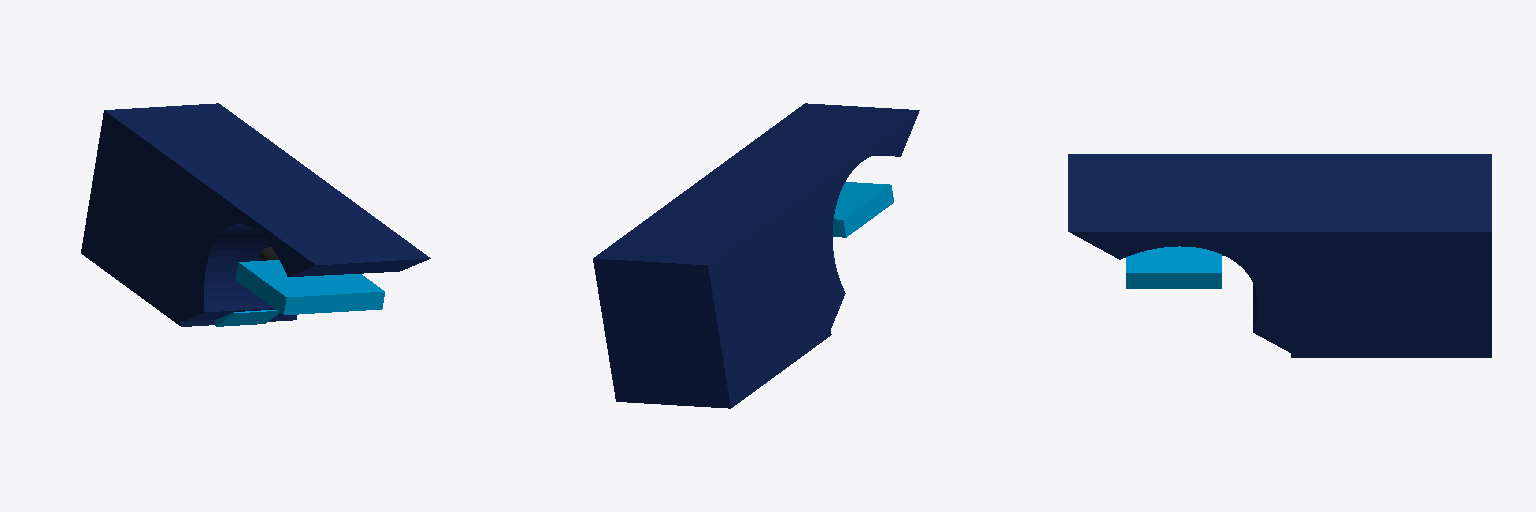
Rendered from tinker.obj.
3 renders of one model, left to right at view 1: azimuth 30°, elevation 25°; view 2: azimuth 150°, elevation 25°; view 3: azimuth 270°, elevation 25°, orthographic.
Visible parts, largest first — view 1: obj_0; view 2: obj_0; view 3: obj_0.
Part boxes in pixels (bbox=[...]): obj_0: bbox=[81, 103, 430, 326]; obj_0: bbox=[593, 103, 919, 408]; obj_0: bbox=[1068, 154, 1491, 357].
Bounding box in the file's own units: 8.28 × 9.09 × 22.